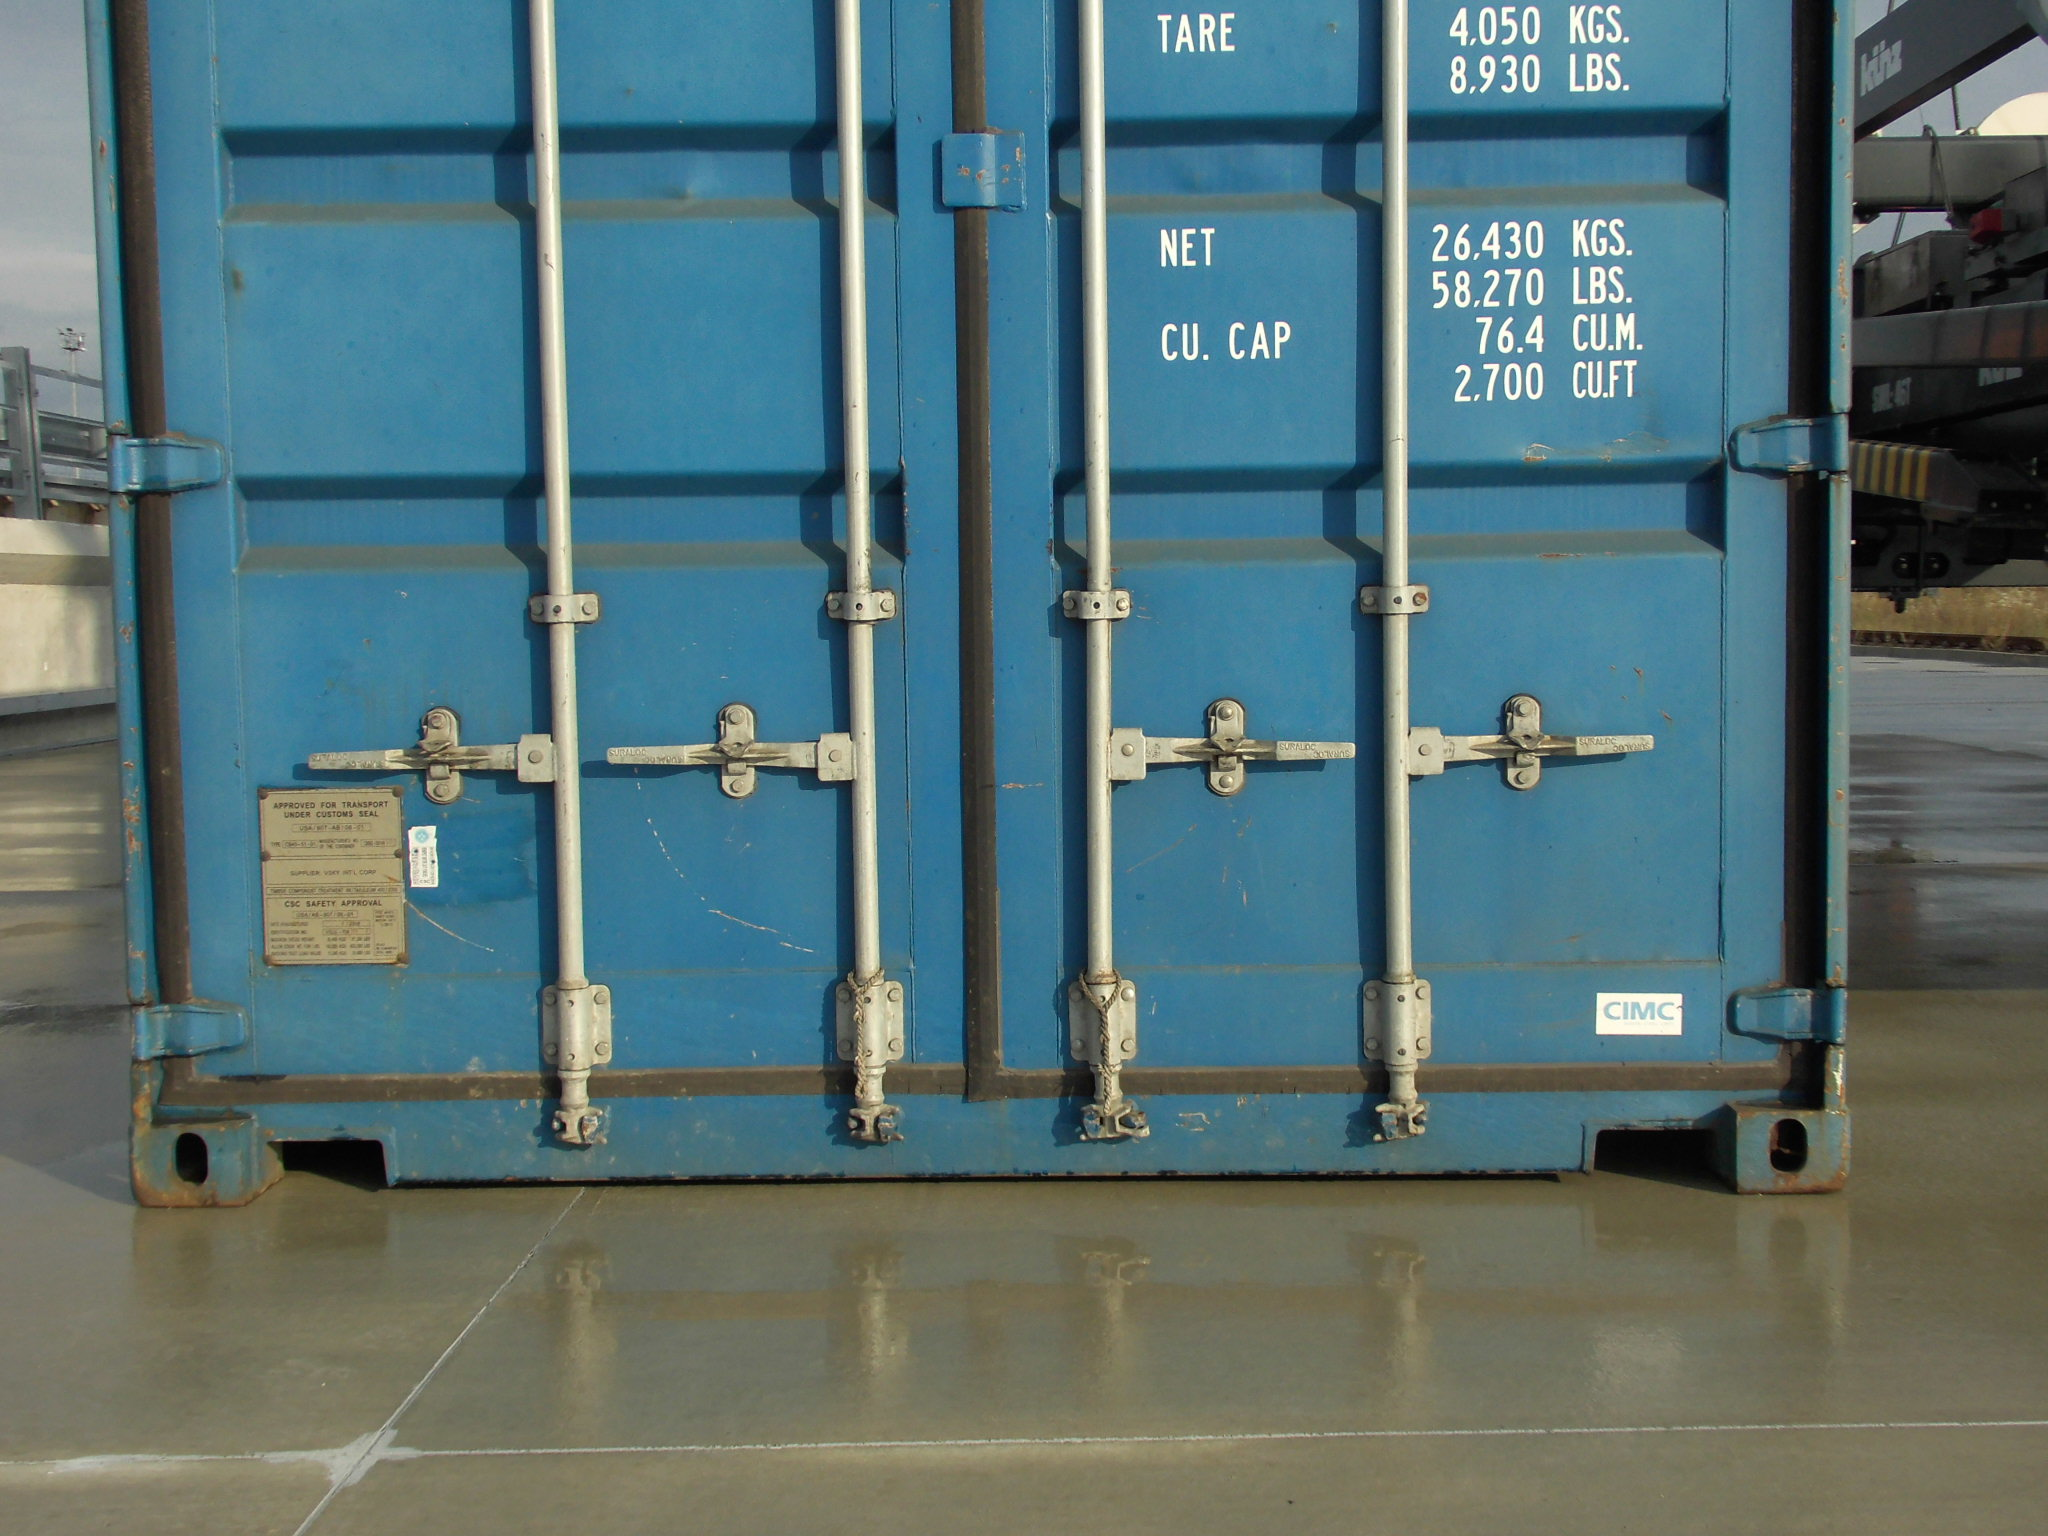container_door: (98, 5, 1858, 1200)
